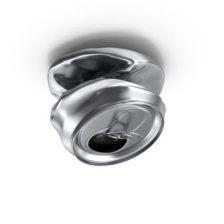can: (36, 39, 173, 169)
